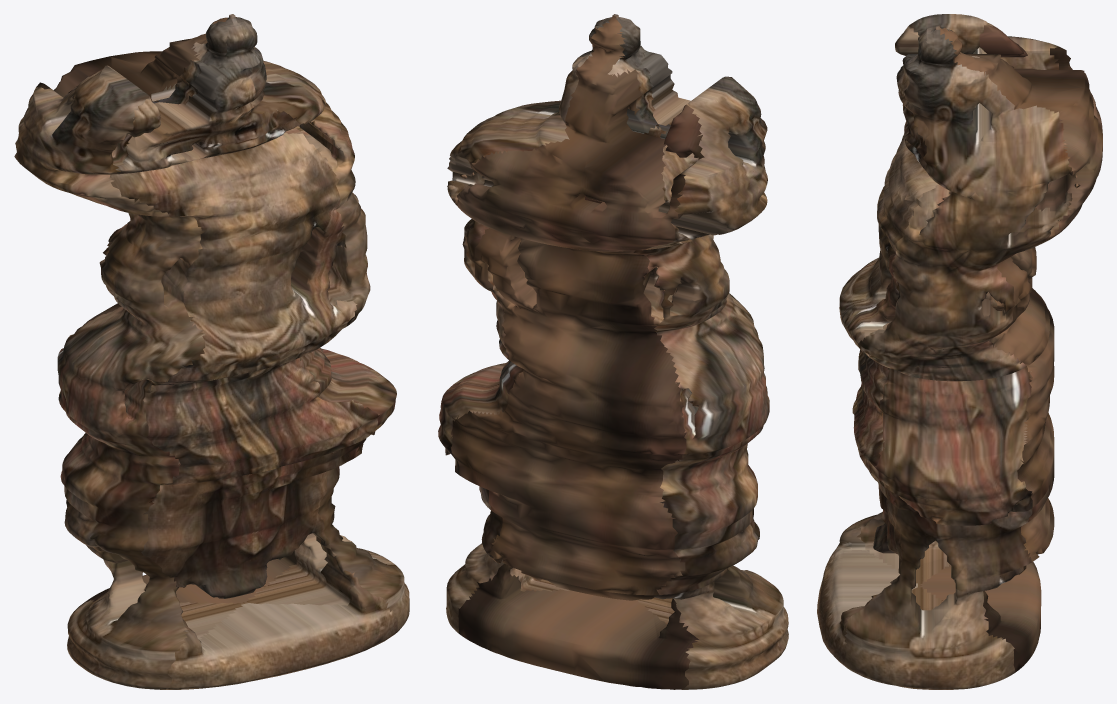
Rendered from vajra-open.glb.
3 views of the same model, side by side, from view 1: azimuth 30°, elevation 25°; view 2: azimuth 150°, elevation 25°; view 3: azimuth 270°, elevation 25° (orthographic). The views are drawn at different scales.
Parts seen in each view (by area): view 1: vajra-open; view 2: vajra-open; view 3: vajra-open.
Part boxes in pixels (x1=…): vajra-open: x1=14, y1=14, x2=409, y2=689; vajra-open: x1=438, y1=14, x2=788, y2=689; vajra-open: x1=817, y1=14, x2=1102, y2=689.
Size of the model in its own units: 0.5606 by 1.01 by 0.439.
1 material, 1 textured.
